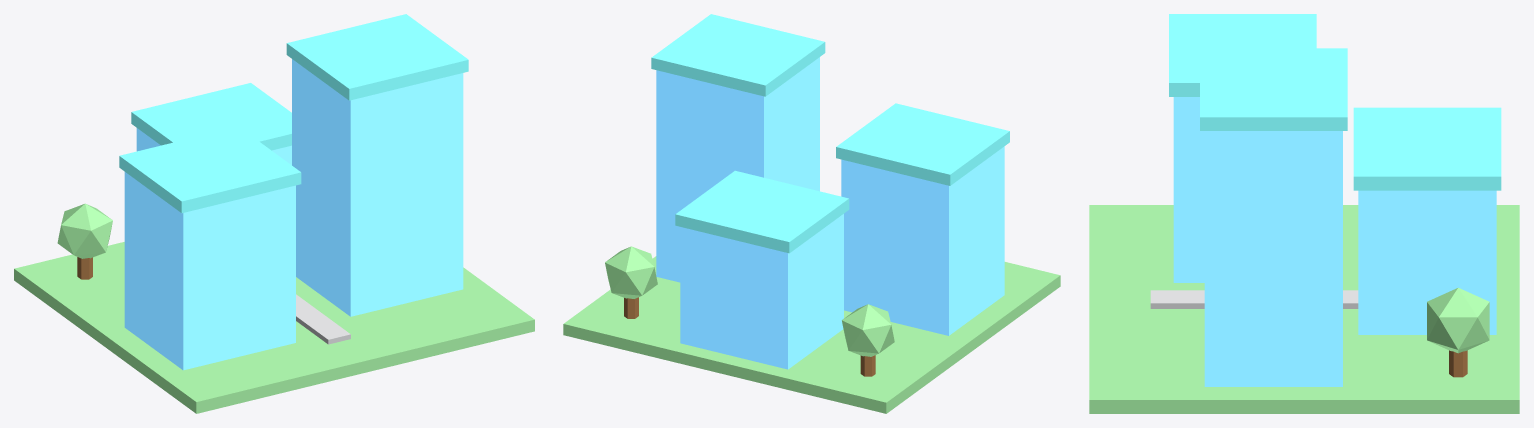
The model's file is science_park.glb.
3 renders of one model, left to right at view 1: azimuth 30°, elevation 25°; view 2: azimuth 150°, elevation 25°; view 3: azimuth 270°, elevation 25°, orthographic. The views are drawn at different scales.
Parts seen in each view (by area): view 1: science_park; view 2: science_park; view 3: science_park.
Boxes of the visible parts, <box> form: science_park: <box>14,14,534,413</box>; science_park: <box>563,14,1060,413</box>; science_park: <box>1089,14,1519,413</box>.
Size of the model in its own units: 1.5 by 1.02 by 1.4.
